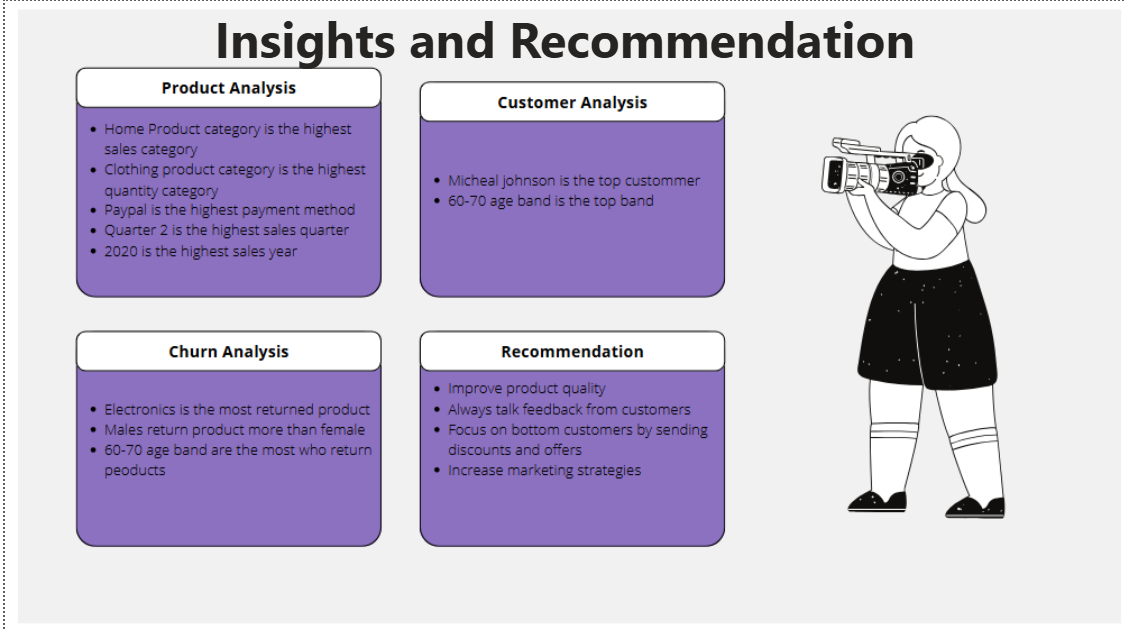

The page's visual inventory and layout, read from the dashboard file:
{"tool":"powerbi","page":{"name":"Insights and Recommendation","canvas":[1280,720],"ordinal":4},"visuals":[{"type":"image","box":[9.8,0,1270.5,720.2],"z":0},{"type":"textbox","box":[49.4,0,1179.6,115.7],"z":1000}]}

Visuals, with their boxes in screenshot pixels (x1, y1, x2, y2), scaled from the page's 1280x720 canvas onto the 1124x630 screenshot:
image: locate(9, 0, 1123, 629)
textbox: locate(43, 0, 1079, 101)
